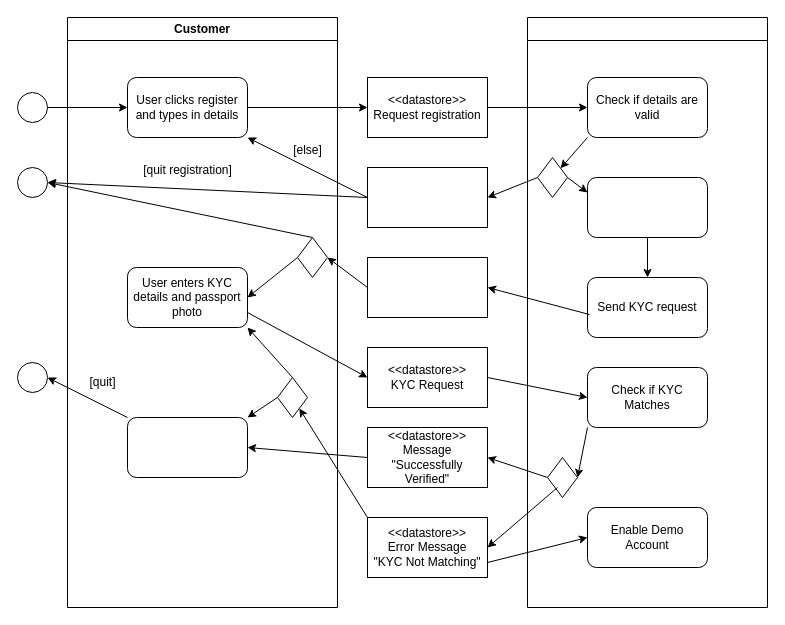
This 785x625 diagram has some shape labels left out. The shapes that lost their labels are listed below. From the top down, each one's box as (x1, y1, x2, y2) in pixels, then its label:
(366, 166, 488, 228): <<datastore>> Error Message "Invalid details"
(586, 176, 708, 238): Login user
(366, 256, 488, 318): <<datastore>> KYC Form
(526, 16, 768, 608): CloudTables-Customer
(126, 416, 248, 478): User Log out
